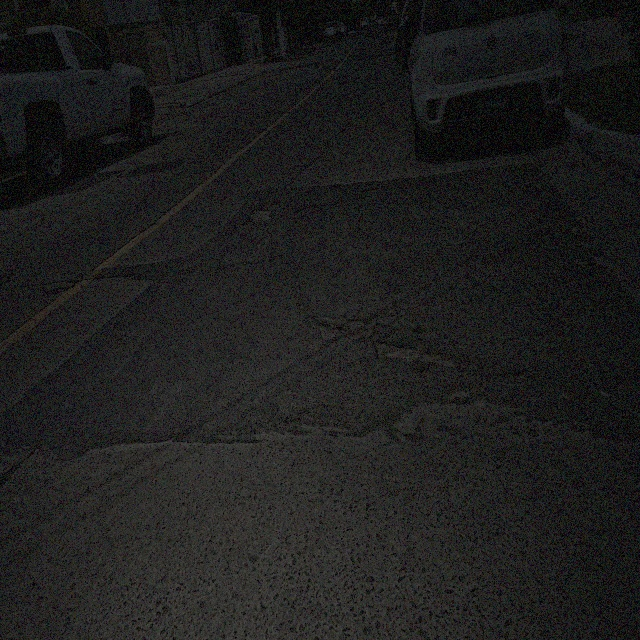pothole: (372, 334, 458, 376), (316, 309, 382, 341), (41, 279, 74, 299), (250, 206, 272, 224), (321, 137, 330, 156)
